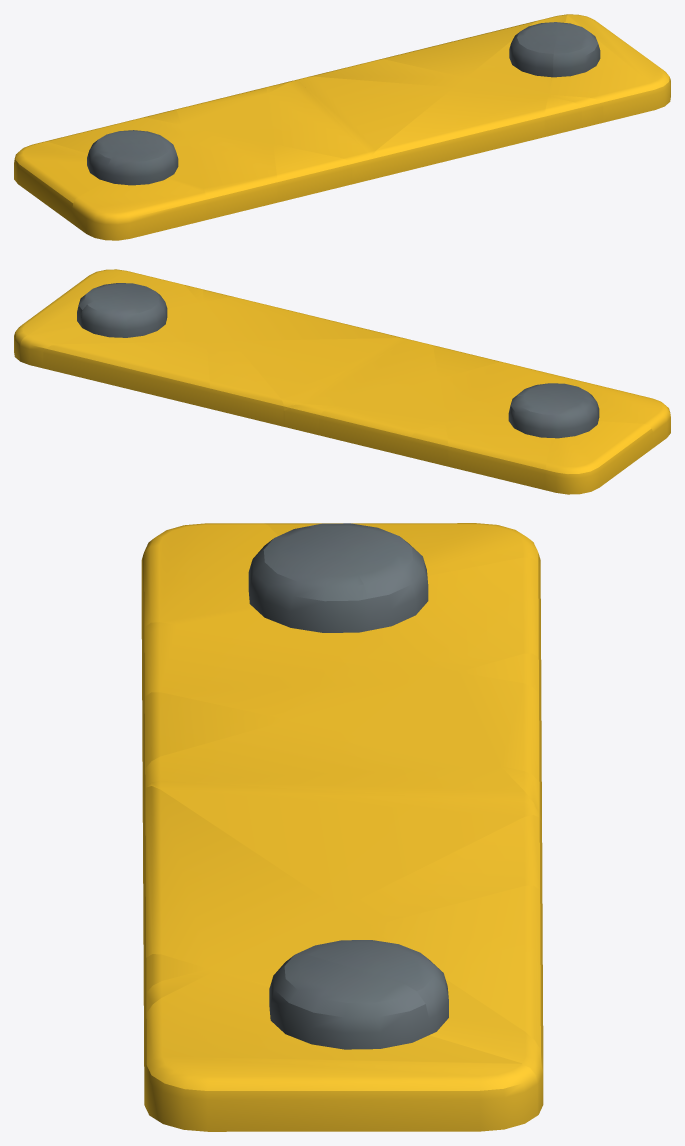
The model's file is wooden planks broken new.fbx.
3 views of the same model, one above another, from view 1: azimuth 30°, elevation 25°; view 2: azimuth 150°, elevation 25°; view 3: azimuth 270°, elevation 25° (orthographic). The views are drawn at different scales.
Visible parts, largest first — view 1: Cube.049, Cube.021, Cube.023, Cube.048, Cube.041, Cube.020, Cube.046, Cube.058, Cube.047, Cube.054, Cube.053, Cube.022 (+6 smaller); view 2: Cube.054, Cube.022, Cube.020, Cube.058, Cube.048, Cube.049, Cube.023, Cube.046, Cube.053, Cube.042, Cube.041, Cube.021 (+6 smaller); view 3: Cube.023, Cube.048, Cube.049, Cube.022, Cube.046, Cube.041, Cube.054, Cube.021, Cube.058, Cube.039, Cube.053, Cube.042 (+7 smaller).
Part boxes in pixels (left/top/right/bottom): Cube.049: left=370, top=87, right=548, bottom=179; Cube.021: left=72, top=145, right=206, bottom=240; Cube.023: left=549, top=14, right=670, bottom=122; Cube.048: left=297, top=76, right=453, bottom=158; Cube.041: left=186, top=129, right=277, bottom=219; Cube.020: left=14, top=137, right=132, bottom=223; Cube.046: left=267, top=79, right=370, bottom=184; Cube.058: left=466, top=14, right=567, bottom=94; Cube.047: left=273, top=144, right=352, bottom=202; Cube.054: left=380, top=21, right=536, bottom=77; Cube.053: left=308, top=59, right=465, bottom=87; Cube.022: left=45, top=117, right=185, bottom=153; Cube.054: left=43, top=341, right=209, bottom=408; Cube.022: left=445, top=395, right=555, bottom=490; Cube.020: left=545, top=396, right=652, bottom=494; Cube.058: left=20, top=290, right=206, bottom=368; Cube.048: left=232, top=338, right=410, bottom=426; Cube.049: left=200, top=297, right=406, bottom=340; Cube.023: left=14, top=269, right=199, bottom=360; Cube.046: left=292, top=340, right=438, bottom=405; Cube.053: left=206, top=341, right=284, bottom=426; Cube.042: left=319, top=406, right=444, bottom=457; Cube.041: left=438, top=362, right=574, bottom=413; Cube.021: left=556, top=379, right=670, bottom=447; Cube.023: left=144, top=954, right=537, bottom=1131; Cube.048: left=146, top=780, right=540, bottom=908; Cube.049: left=143, top=786, right=339, bottom=970; Cube.022: left=335, top=539, right=541, bottom=672; Cube.046: left=142, top=720, right=535, bottom=822; Cube.041: left=142, top=622, right=419, bottom=719; Cube.054: left=368, top=885, right=543, bottom=1058; Cube.021: left=141, top=523, right=333, bottom=638; Cube.058: left=216, top=927, right=543, bottom=1115; Cube.039: left=178, top=550, right=399, bottom=662; Cube.053: left=340, top=815, right=542, bottom=926; Cube.042: left=420, top=672, right=541, bottom=790.
Size of the model in its own units: 26.23 by 1.98 by 7.86.
